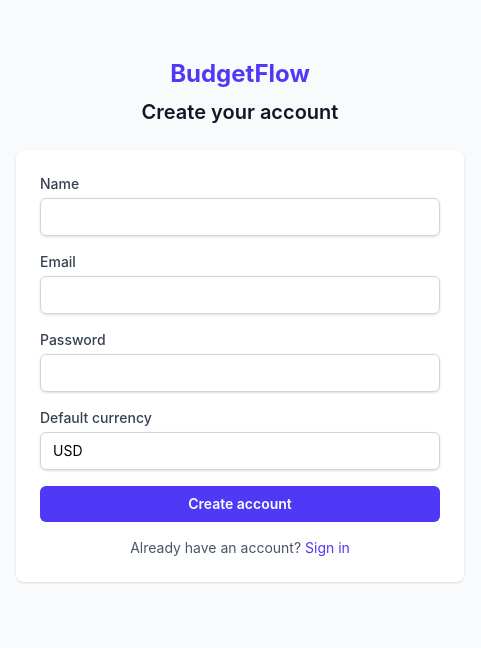
Scenario: SignUpPage › validates name, email, password length, and currency format
Type "bad-email" into the field labelled "Email" at (240,295), box [40, 276, 440, 314]
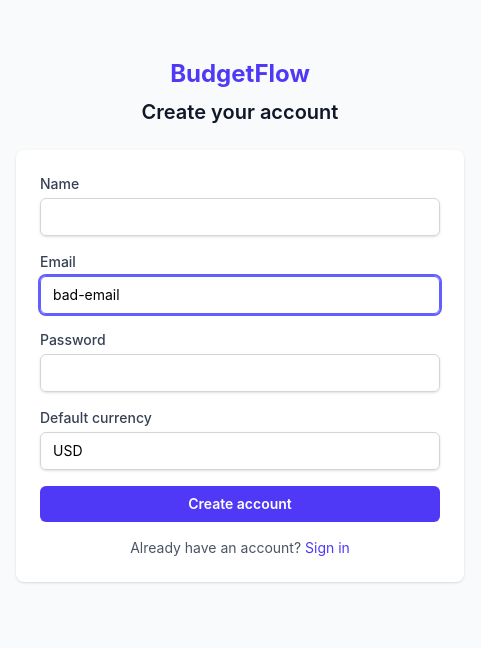
Type "short" into the password field labelled "Password" at (240,373), box [40, 354, 440, 392]
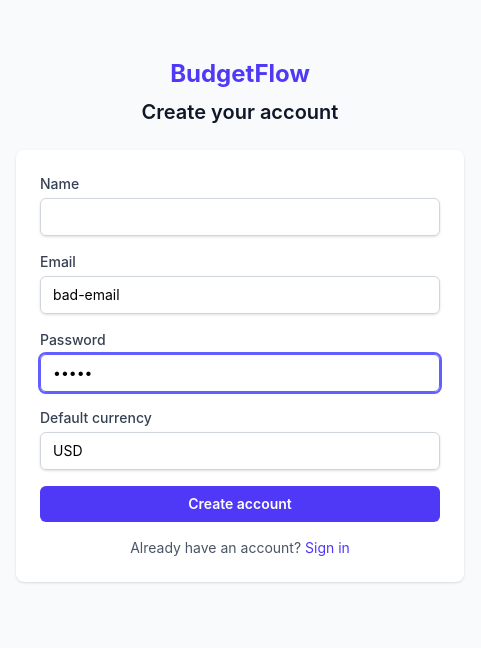
Replace the text in the field labelled "Default currency" with "X1" at (240,451), box [40, 432, 440, 470]
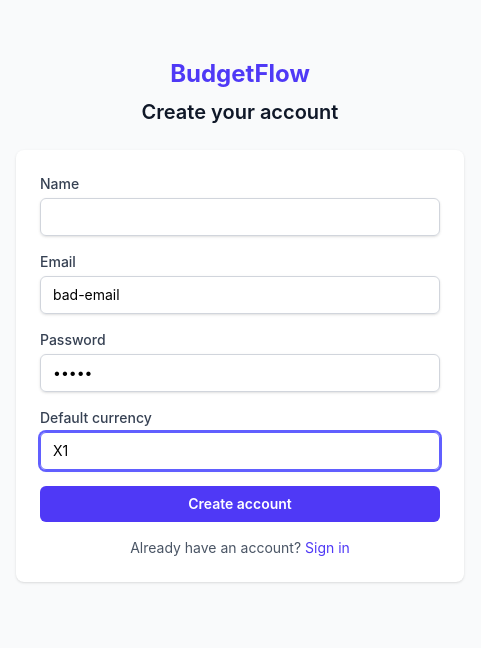
Click the button "Create account" at (240,504), box [40, 486, 440, 522]
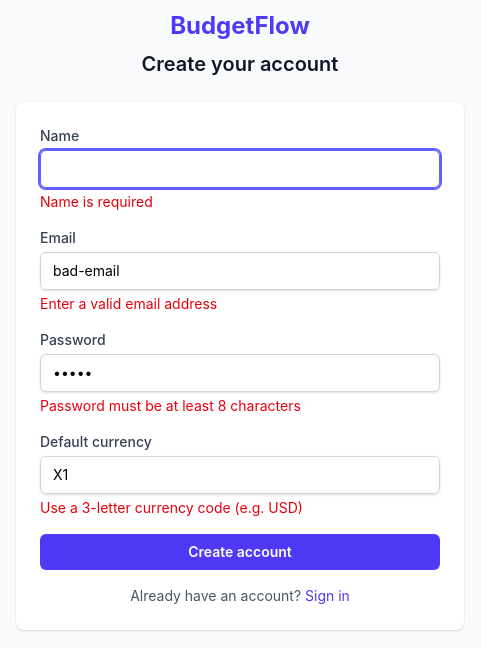
Expected: the text "Name is required" is shown, [40, 193, 153, 210]
Expected: the text "Enter a valid email address" is shown, [40, 295, 217, 312]
Expected: the text "Password must be at least 8 characters" is shown, [40, 397, 301, 414]
